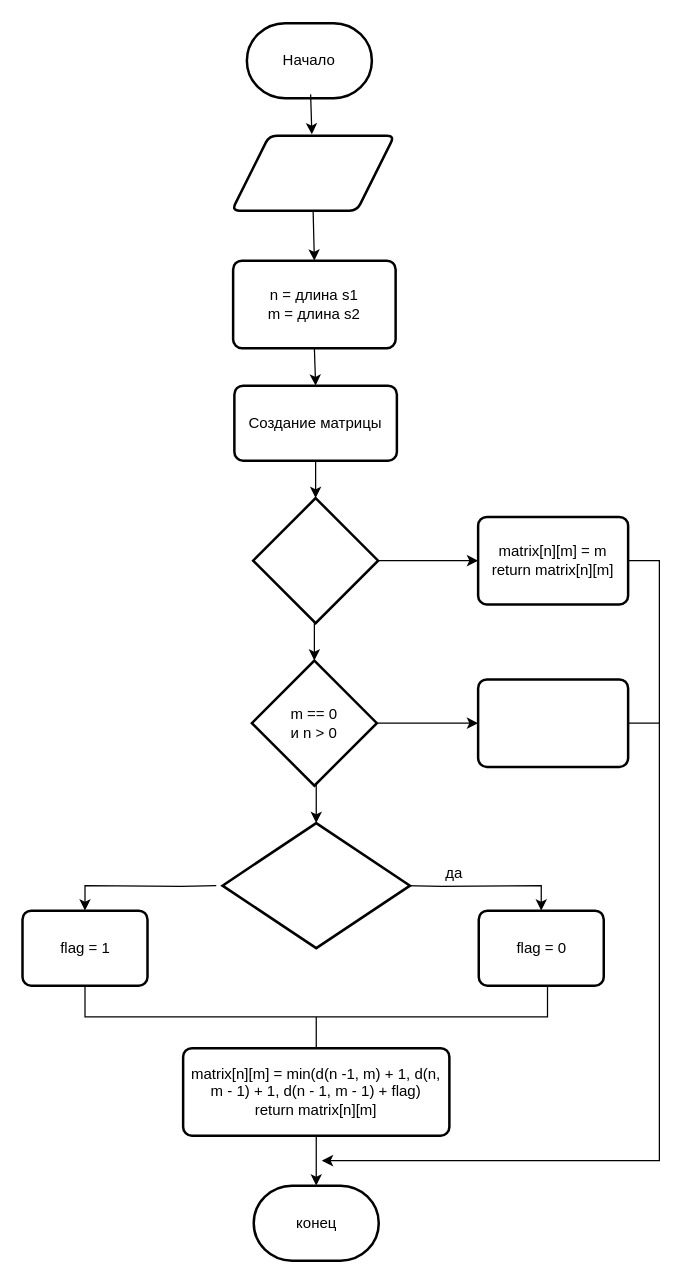
Image size: 691x1283. Some labels were removed from this diagram. The centre of each missing label's shape, as x and y in pixels:
"matrix[n][m] = n return matrix[n][m]" belongs at (552,723).
"n == 0" belongs at (315,560).
"s1[n - 1] == s2[m - 1]" belongs at (316,885).
"Ввод s1, s2" belongs at (312,172).
